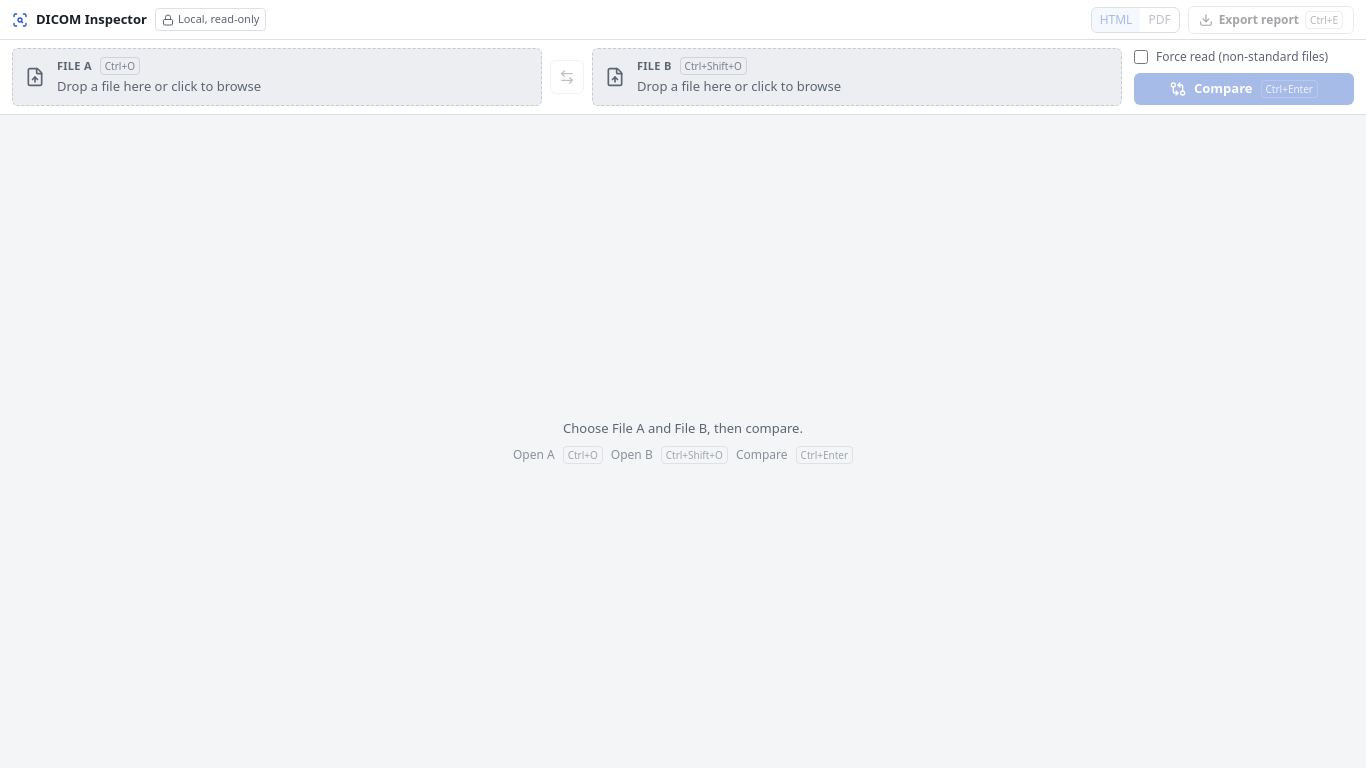
Test case: App › compares and shows summary, file details, warnings and the table
Click the button with aria-label "Choose File A" at (74, 65), box [13,49,541,104]
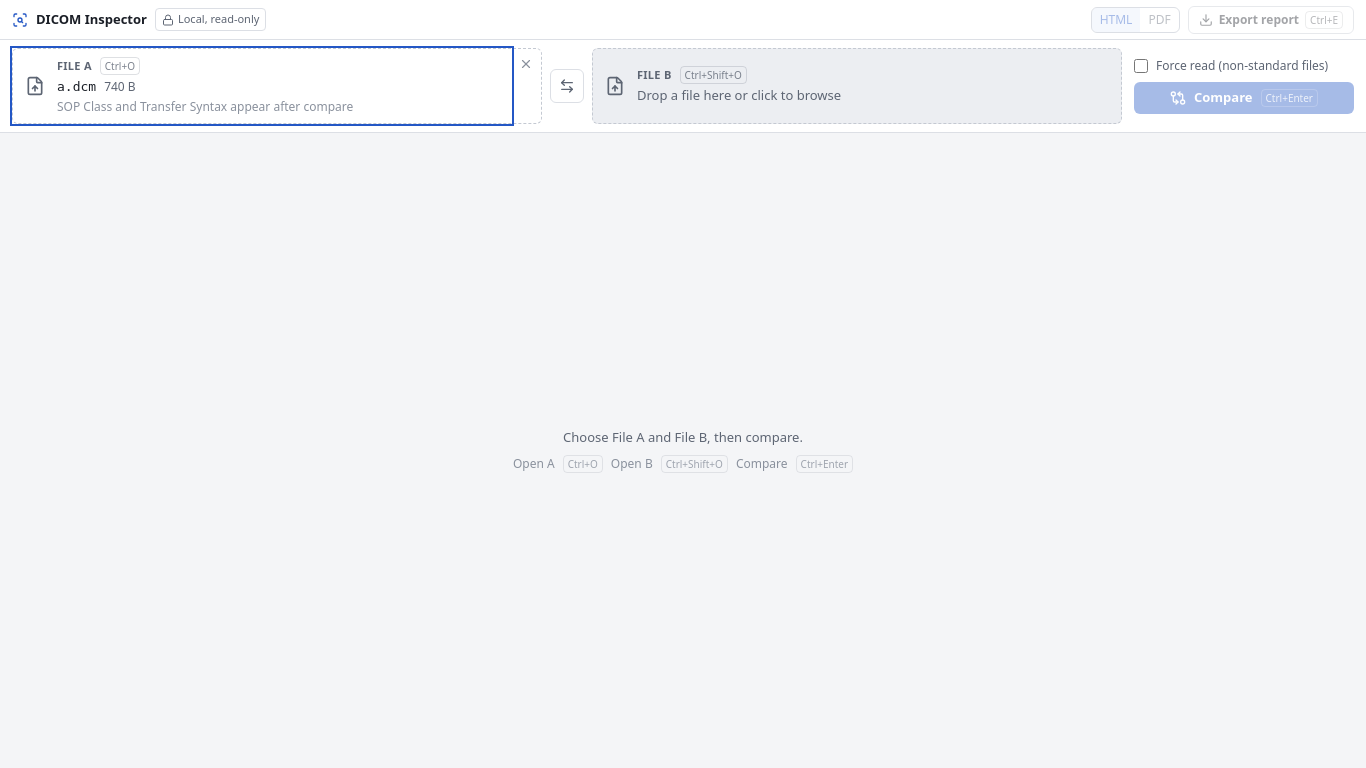
Click the button with aria-label "Choose File B" at (654, 74), box [593,49,1121,122]
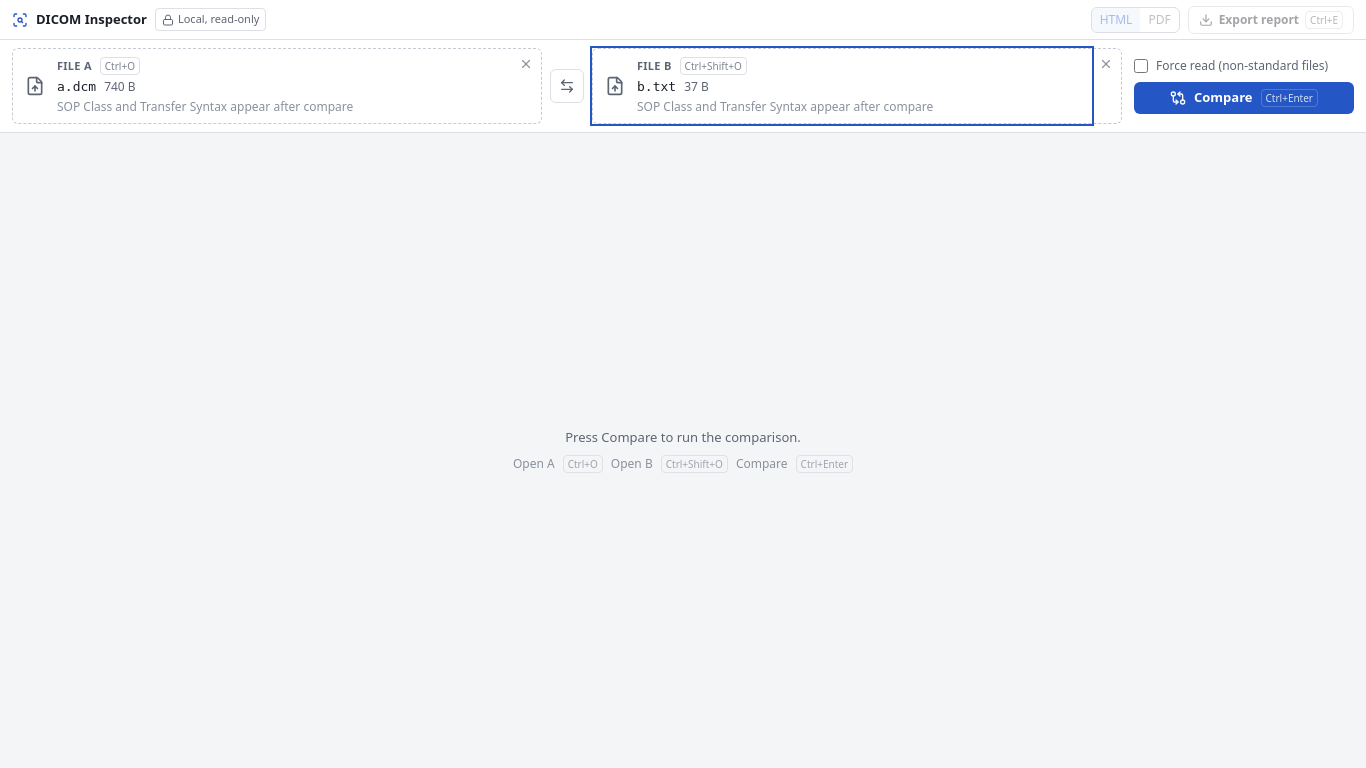
Result: the text "b.txt" is shown at [637,77,676,96]
Click the button "Compare Ctrl+Enter" at (1244, 98), box [1134,82,1354,114]
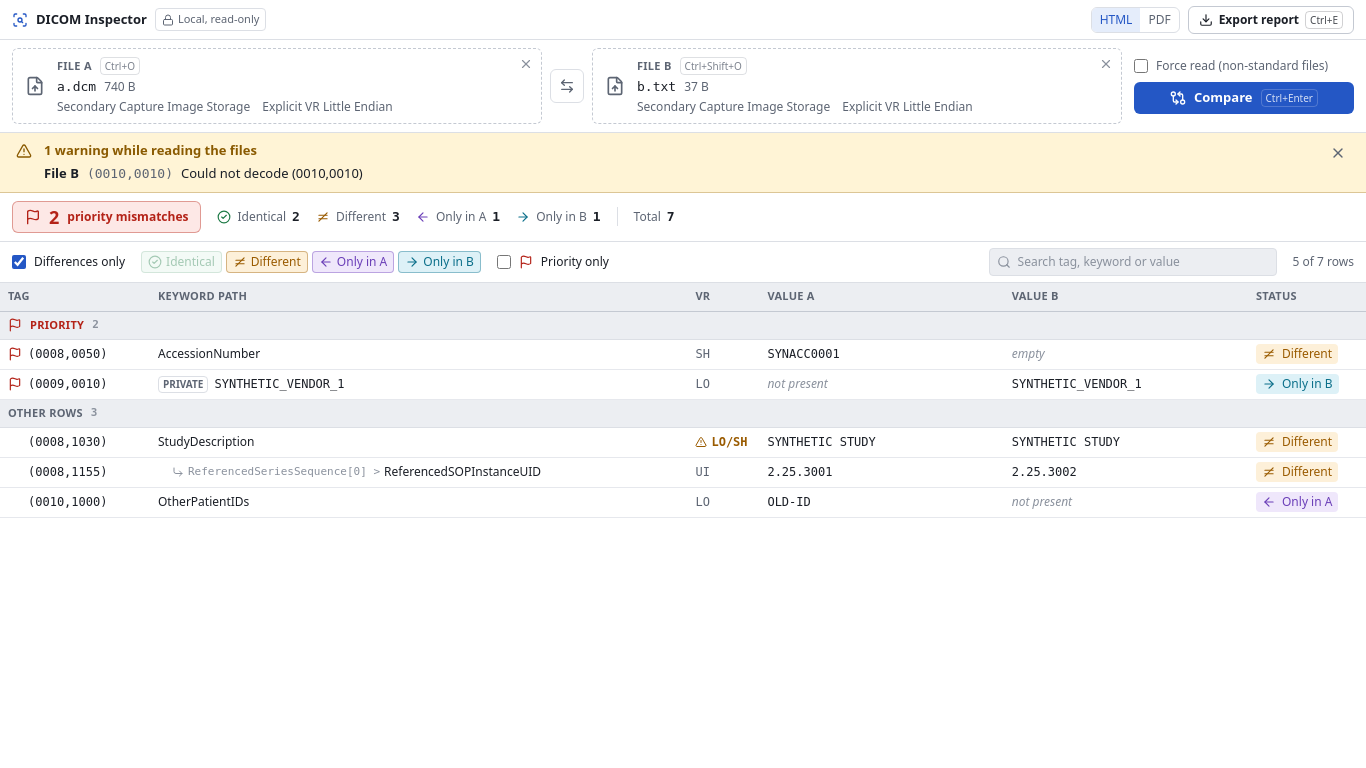
Result: the element with test id "priority-mismatches" reads "2 priority mismatches" at [12,200,202,232]
Result: the text with test id "count-different" reads "3" at [392,209,400,224]
Result: the text "Secondary Capture Image Storage" is shown 2 times at [57,98,250,114]; [637,98,830,114]
Click the button named "Dismiss warnings" at (1338, 152), box [1326,140,1350,164]
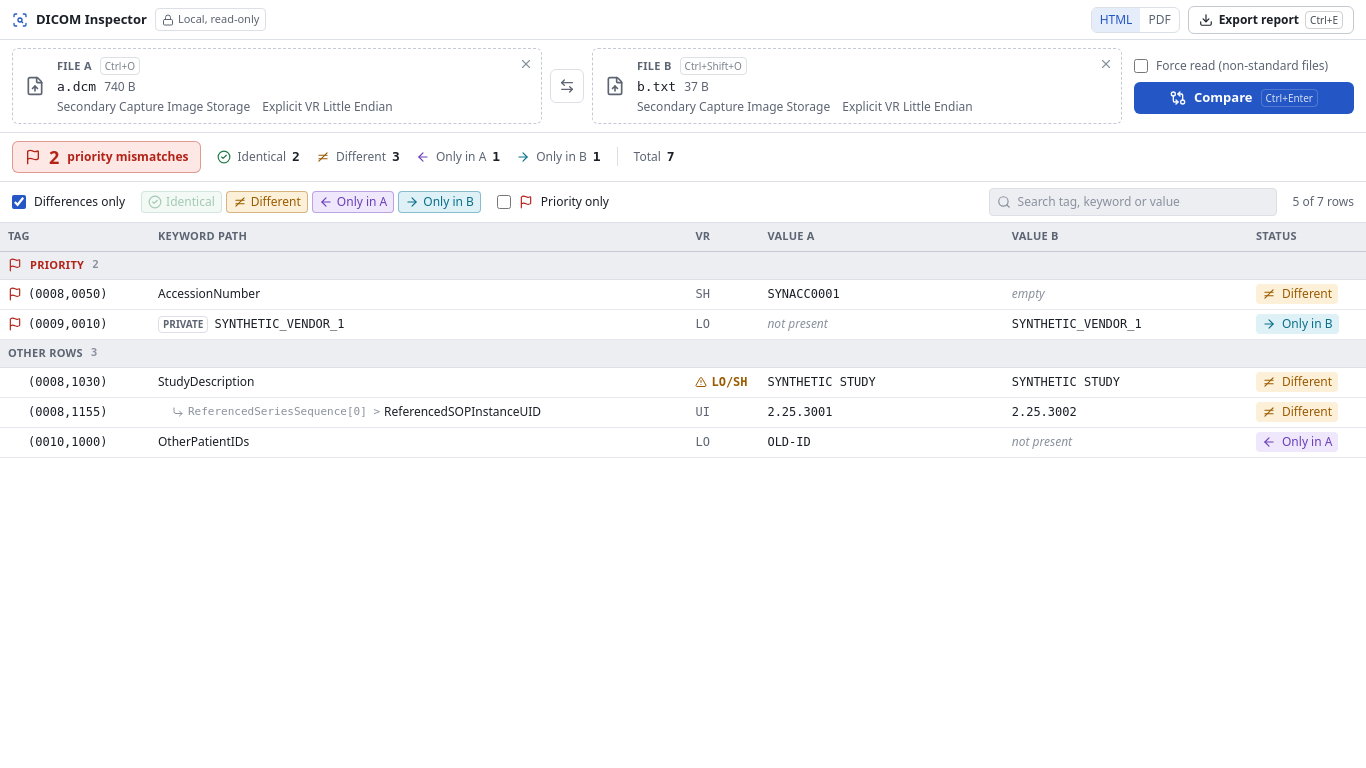
Click the checkbox labelled "Differences only" at (19, 202), box [12,194,26,208]
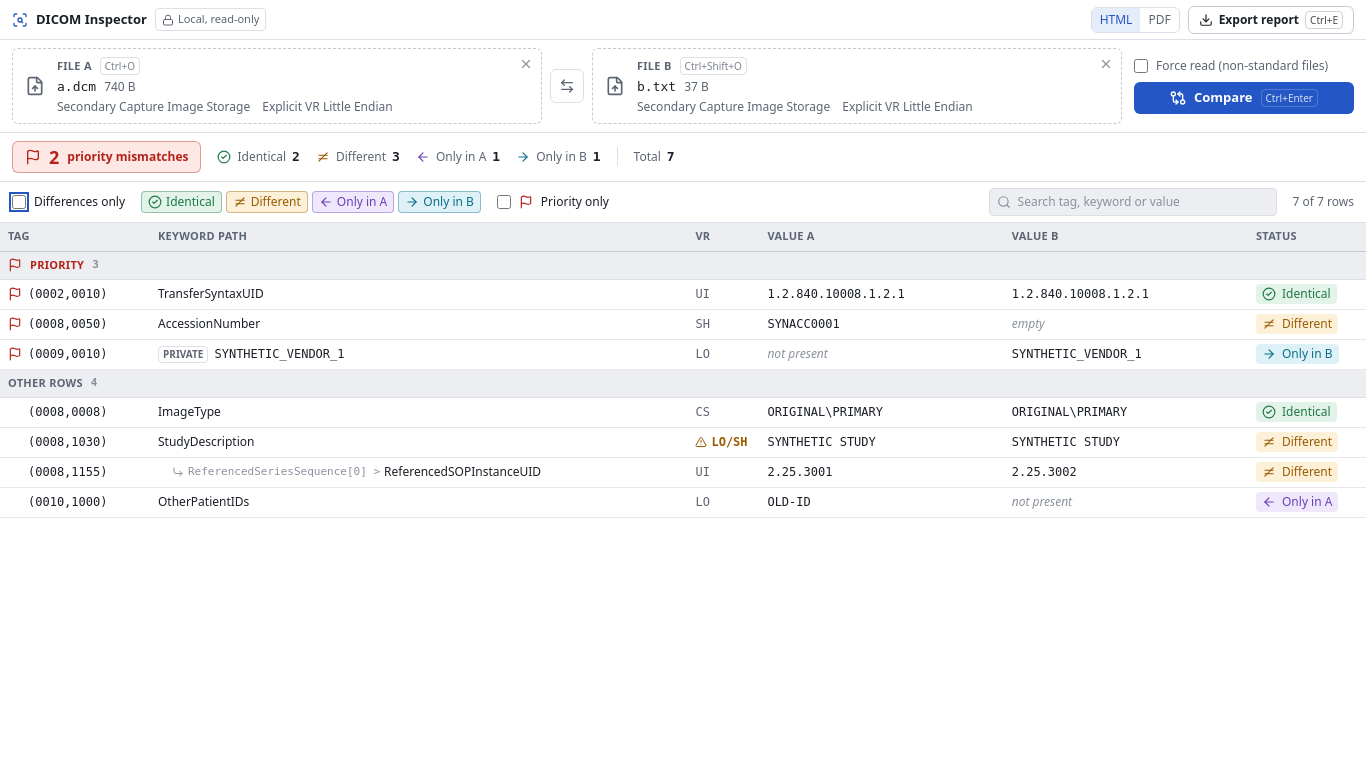
Result: the text "7 of 7 rows" is shown at [1293,194,1354,210]
